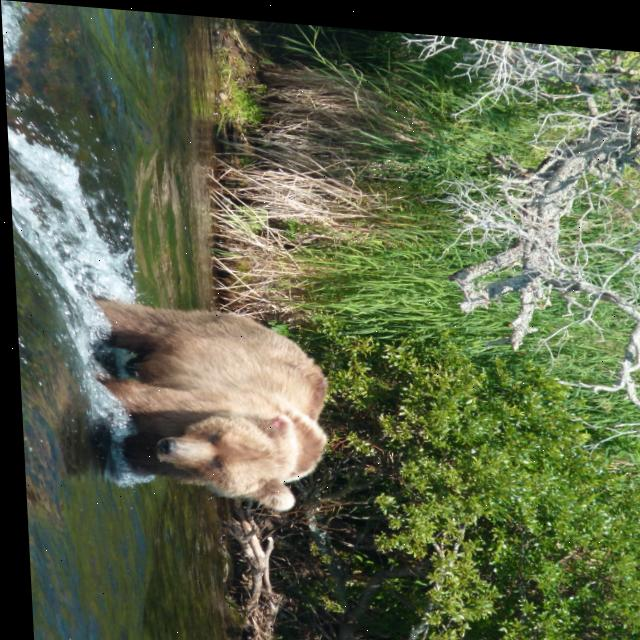bear face: (92, 294, 328, 510)
